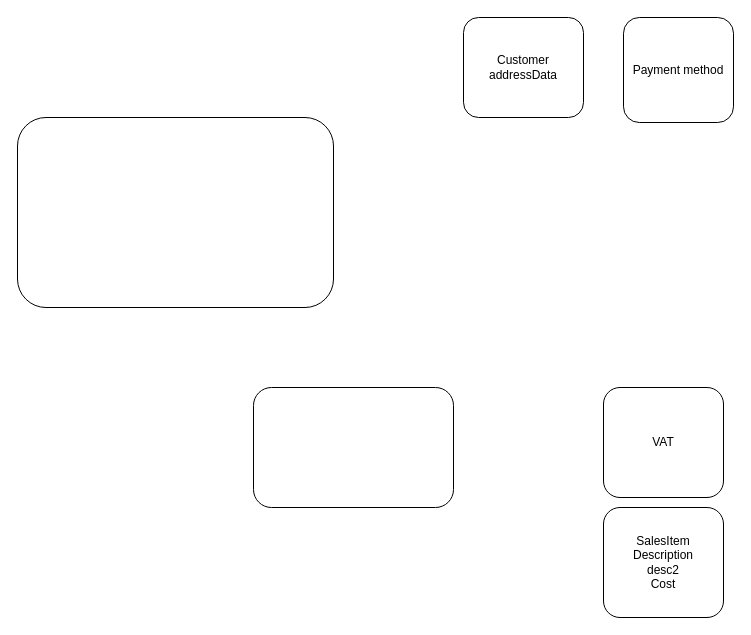
This 751x635 diagram has some shape labels left out. Here are the shapes that lost their labels. From the top down, the centre of each, then its label:
At (x=175, y=212): "Invoice".
At (x=353, y=447): "Sales SalesItem Date Amount Item".
